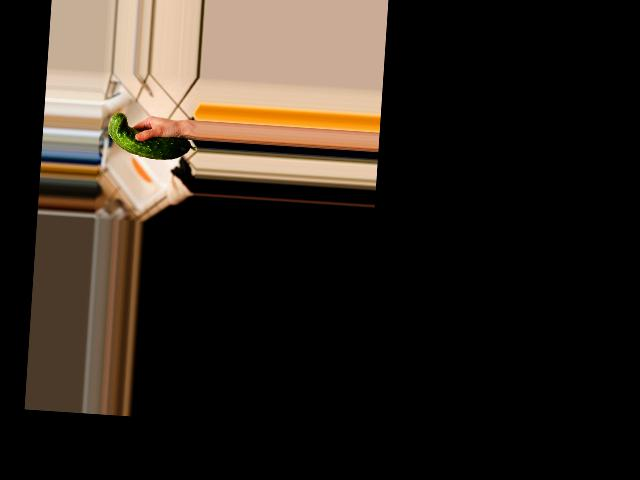cucumber: (106, 112, 198, 162)
